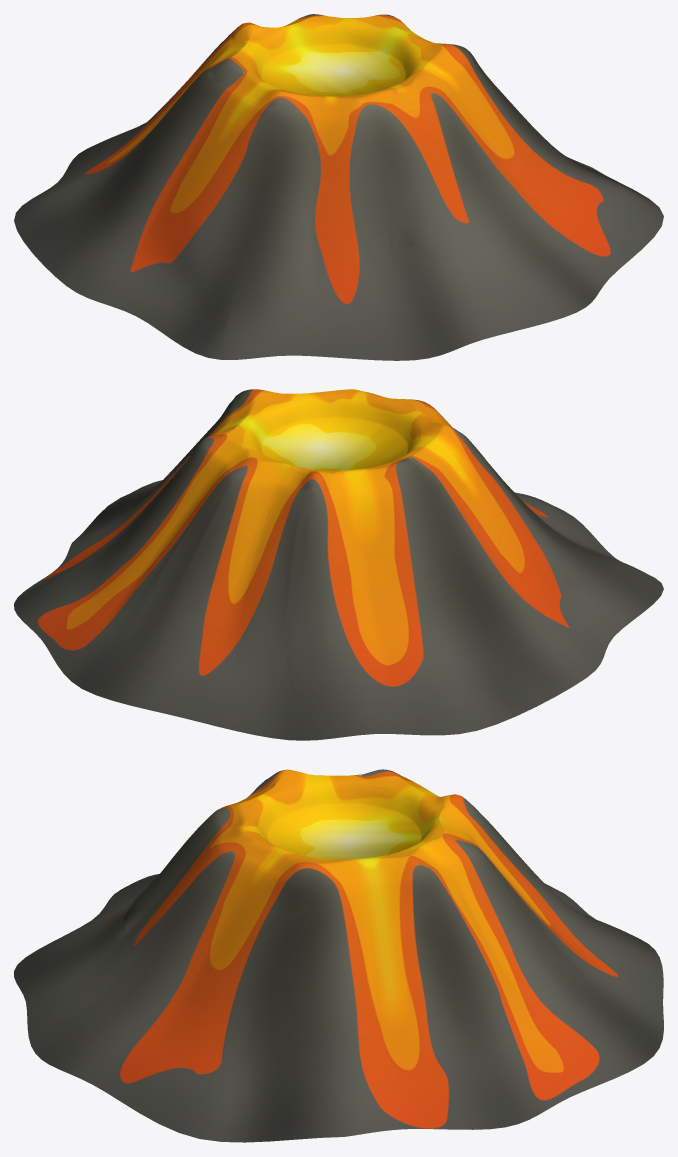
Rendered from Vulcan_1.fbx.
The picture shows the model from 3 angles, top to bottom: view 1: azimuth 30°, elevation 25°; view 2: azimuth 150°, elevation 25°; view 3: azimuth 270°, elevation 25°; orthographic projection. The views are drawn at different scales.
Visible parts, largest first — view 1: Group2, Group3; view 2: Group2, Group3; view 3: Group2, Group3.
Part boxes in pixels (<box>): Group2: <box>14,14,663,360</box>; Group3: <box>85,14,610,303</box>; Group2: <box>14,389,663,740</box>; Group3: <box>37,389,569,686</box>; Group2: <box>14,769,663,1142</box>; Group3: <box>106,769,617,1128</box>.
Size of what is drawn, in the model's own units: 2037 by 659 by 2040.
